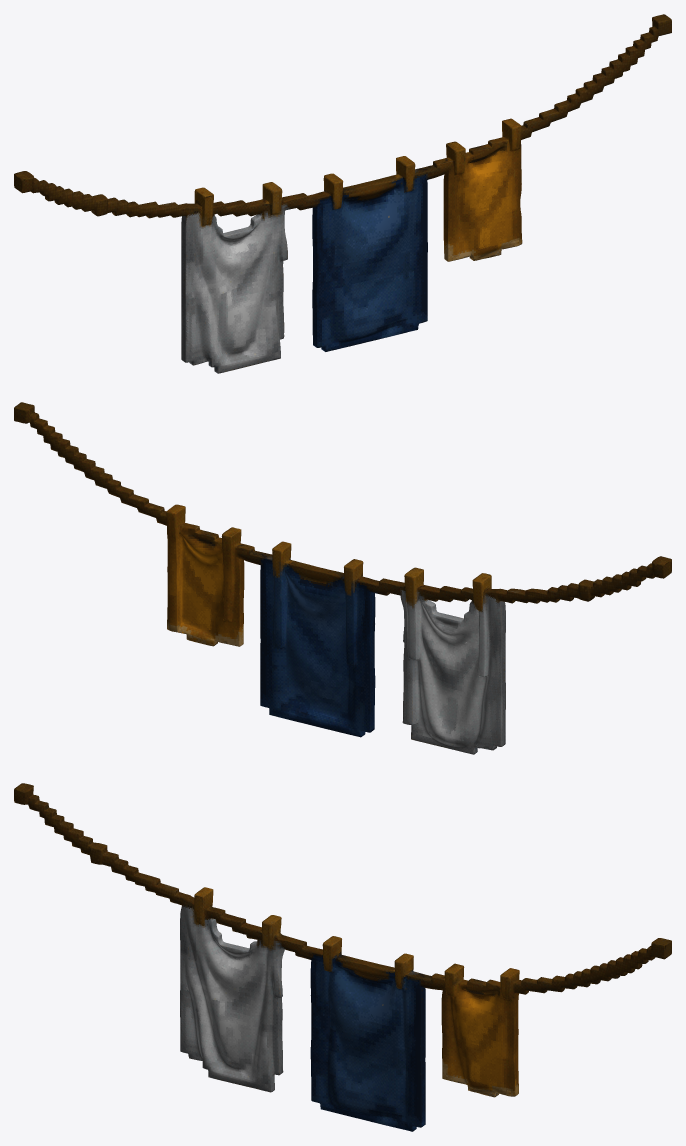
File: clothesline_psx.glb
3 renders of one model, top to bottom at view 1: azimuth 30°, elevation 25°; view 2: azimuth 150°, elevation 25°; view 3: azimuth 330°, elevation 25°, orthographic.
Parts seen in each view (by area): view 1: varal_roupa; view 2: varal_roupa; view 3: varal_roupa.
Boxes of the visible parts, <box> form: varal_roupa: <box>14,14,671,373</box>; varal_roupa: <box>14,402,671,754</box>; varal_roupa: <box>14,783,671,1131</box>.
Size of the model in its own units: 1.13 by 0.4115 by 0.0314.
Materials: 1 (1 with a texture image).
